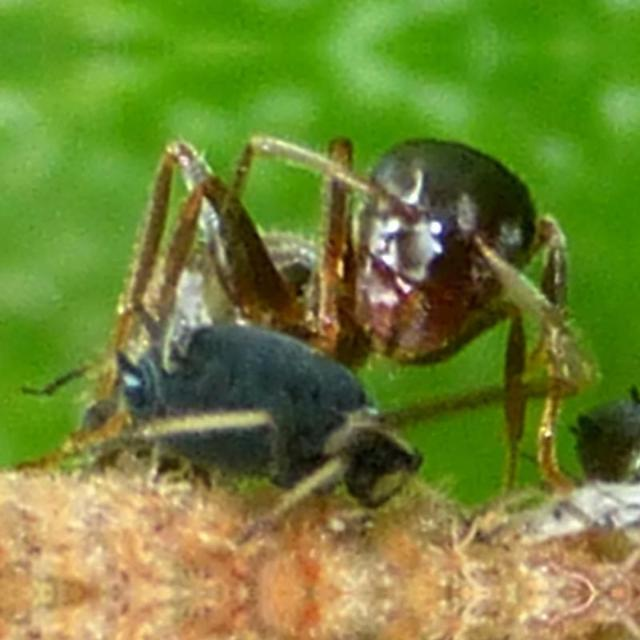Lasius: (98, 86, 628, 420)
